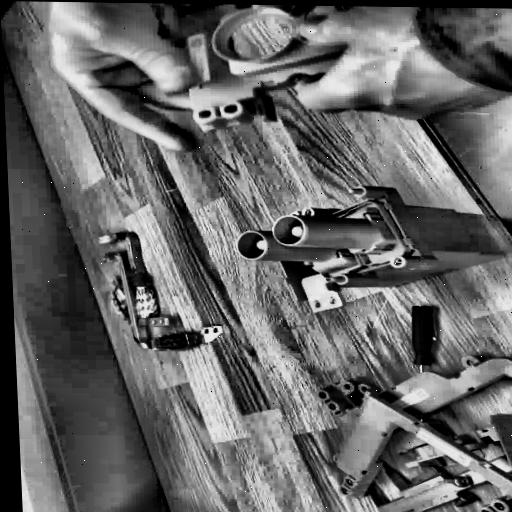busbar: (94, 230, 222, 355)
connector: (231, 180, 511, 315)
